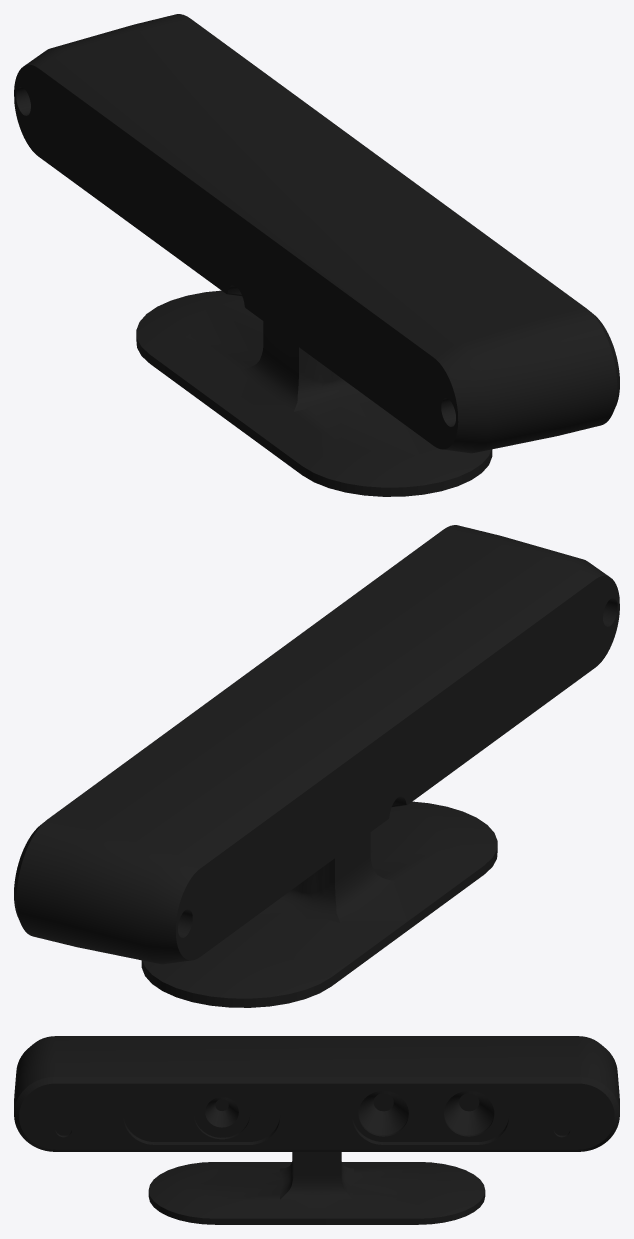
File: asus_xtion_pro_camera.dae
3 views of the same model, one above another, from view 1: azimuth 30°, elevation 25°; view 2: azimuth 150°, elevation 25°; view 3: azimuth 270°, elevation 25° (orthographic). The views are drawn at different scales.
Visible parts, largest first — view 1: asus_xtion_pro_camera; view 2: asus_xtion_pro_camera; view 3: asus_xtion_pro_camera.
Boxes of the visible parts, box(x1,y1,x2,y2) form: asus_xtion_pro_camera: box(14, 14, 619, 496); asus_xtion_pro_camera: box(14, 525, 619, 1007); asus_xtion_pro_camera: box(14, 1036, 619, 1224).
Bounding box in the file's own units: 0.04 × 0.18 × 0.047.
